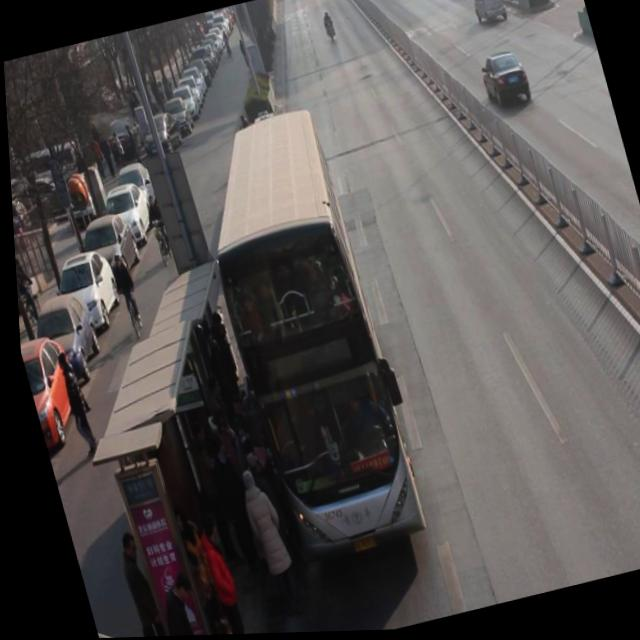car: (475, 51, 533, 116)
truck: (468, 0, 509, 30)
van: (174, 107, 422, 570)
